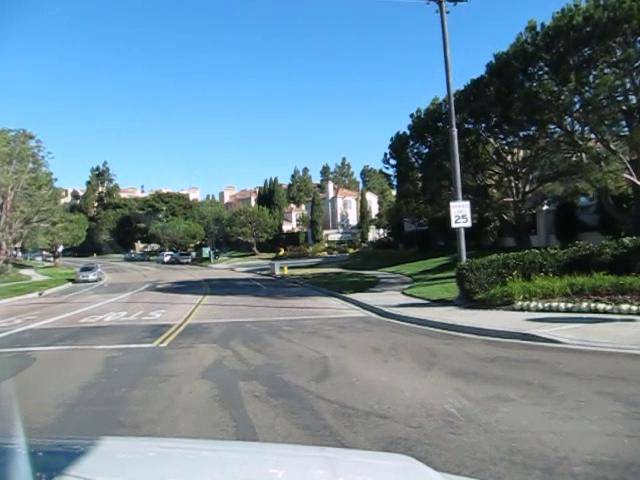speedLimit25: (449, 200, 472, 227)
